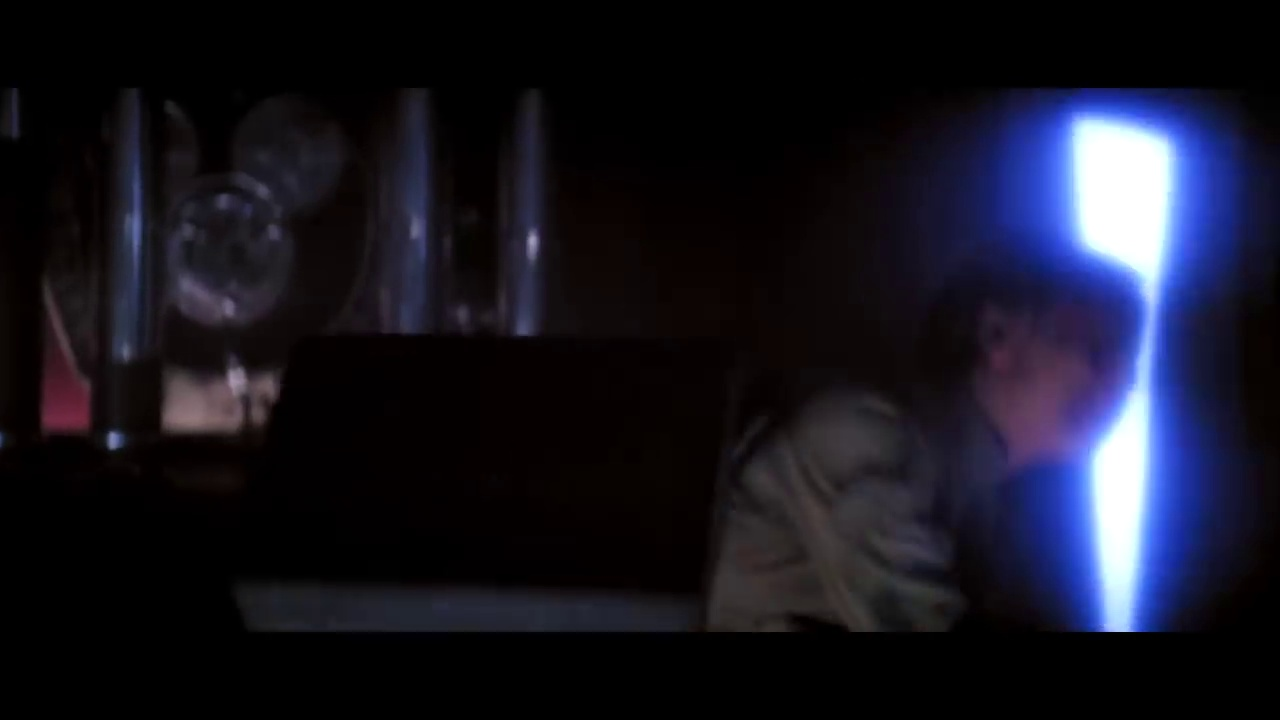lightsaber: (1062, 111, 1184, 635)
